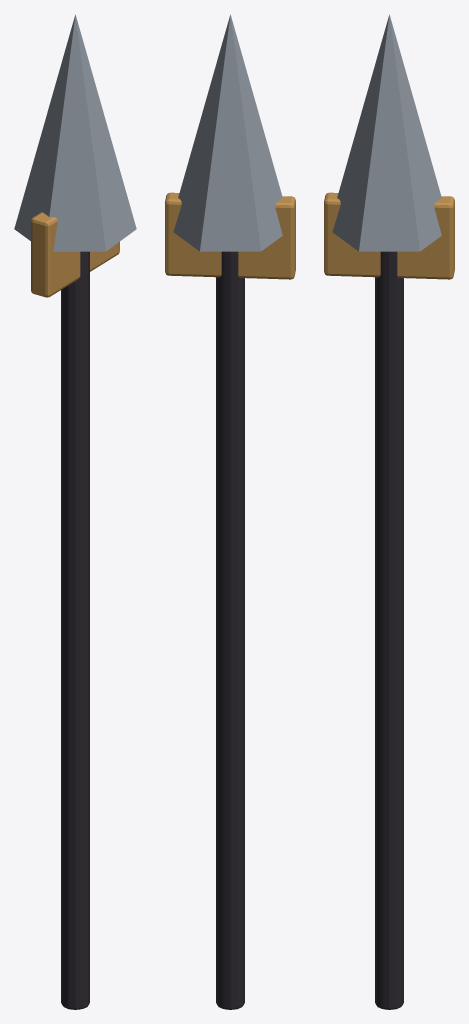
The model's file is ash_lance.glb.
3 renders of one model, left to right at view 1: azimuth 30°, elevation 25°; view 2: azimuth 150°, elevation 25°; view 3: azimuth 330°, elevation 25°, orthographic.
Parts seen in each view (by area): view 1: AshLance_Shaft, AshLance_Head, AshLance_Fin; view 2: AshLance_Shaft, AshLance_Head, AshLance_Fin; view 3: AshLance_Shaft, AshLance_Head, AshLance_Fin.
Part boxes in pixels (bbox=[...]): AshLance_Shaft: bbox=[61, 251, 89, 1009]; AshLance_Head: bbox=[14, 14, 136, 251]; AshLance_Fin: bbox=[31, 212, 119, 297]; AshLance_Shaft: bbox=[216, 251, 244, 1009]; AshLance_Head: bbox=[173, 14, 282, 251]; AshLance_Fin: bbox=[165, 192, 295, 279]; AshLance_Shaft: bbox=[375, 251, 403, 1009]; AshLance_Head: bbox=[332, 14, 441, 251]; AshLance_Fin: bbox=[324, 192, 454, 279].
Bounding box in the file's own units: 0.3244 × 2.86 × 0.32.
